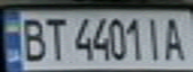0: (109, 15, 127, 62)
1: (124, 15, 145, 61)
4: (69, 14, 93, 62), (90, 15, 112, 62)
A: (160, 14, 190, 62)
B: (15, 15, 48, 63)
I: (142, 15, 166, 62)
T: (39, 15, 69, 63)
